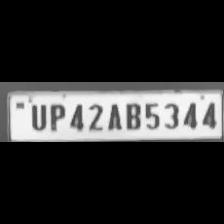2: (84, 100, 104, 132)
3: (160, 98, 180, 130)
4: (65, 100, 85, 132), (180, 98, 198, 130), (198, 98, 216, 130)
5: (142, 99, 160, 130)
A: (103, 100, 121, 132)
B: (122, 99, 142, 130)
P: (45, 101, 65, 133)
U: (26, 100, 48, 132)
